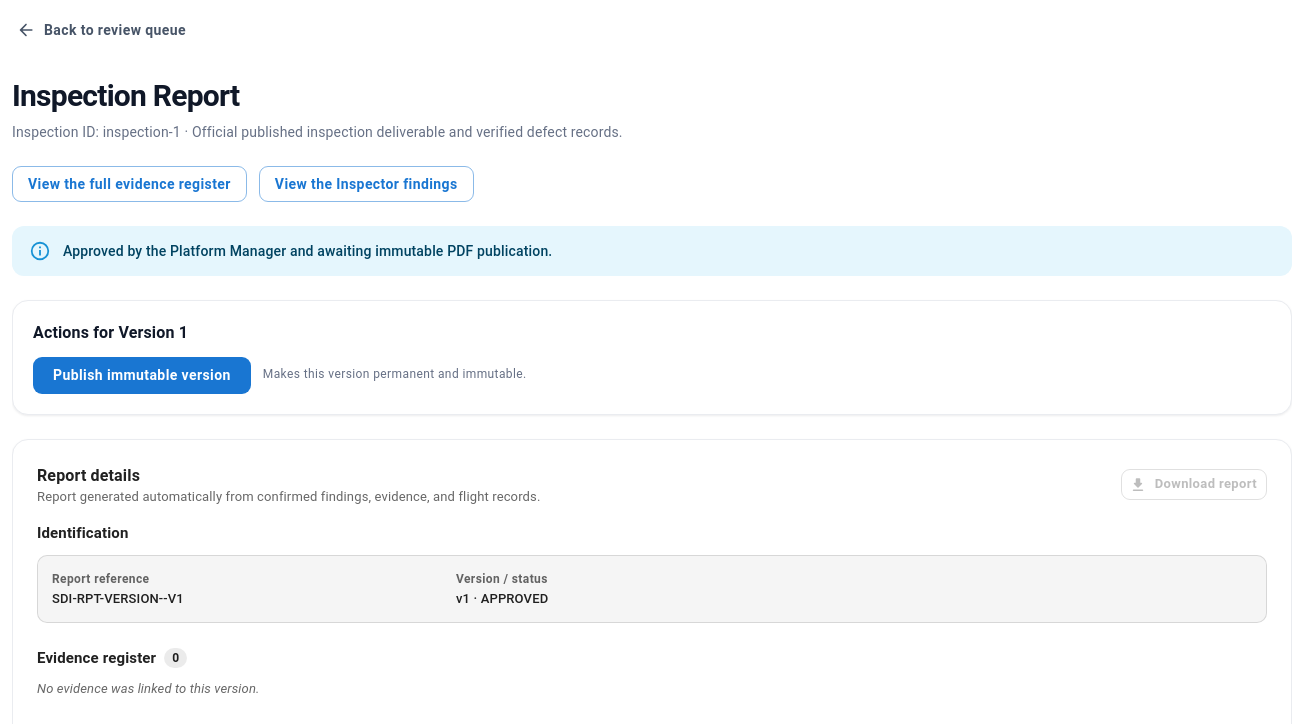
Test case: ReportDetailPage MF3 gates › publishes the approved report without immediately forwarding its findings
This screenshot has width=1292, height=724.
Click the button "Publish immutable version".
click(142, 375)  # box [33,357,251,394]
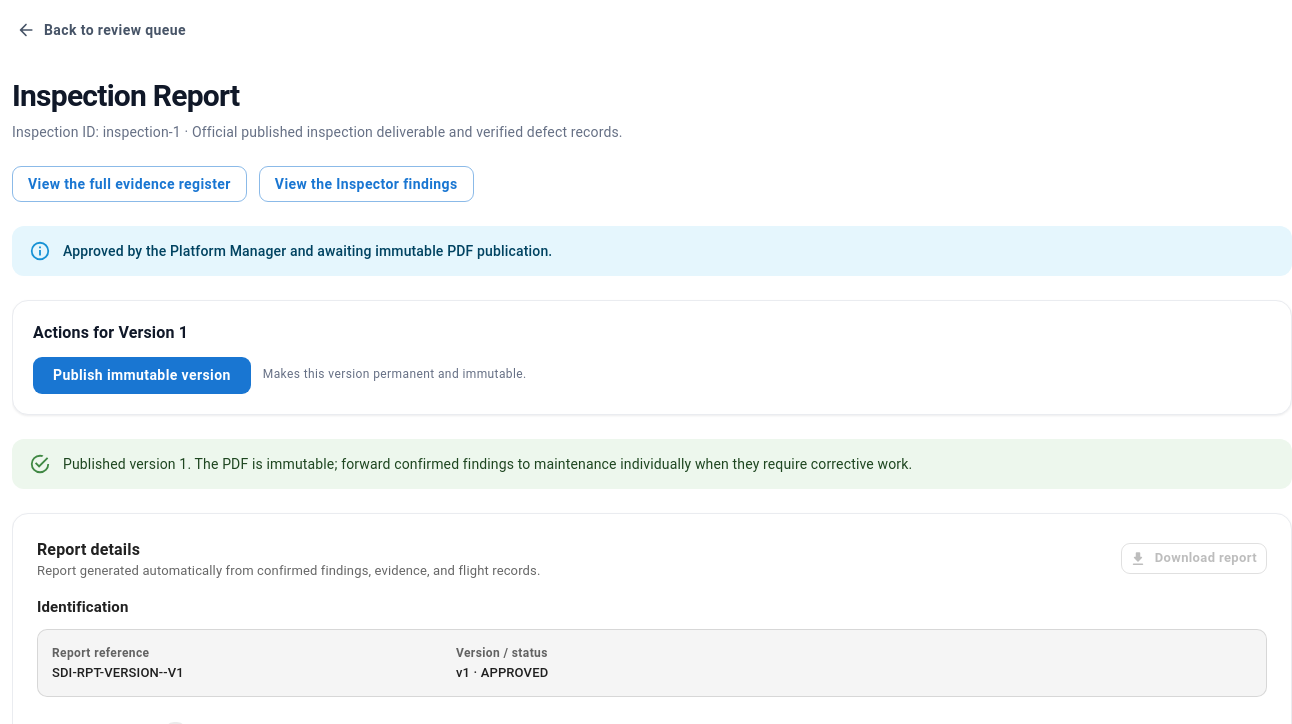
Check: the text "Published version 1. The PDF is immutable" is shown, box [63,456,912,472]
